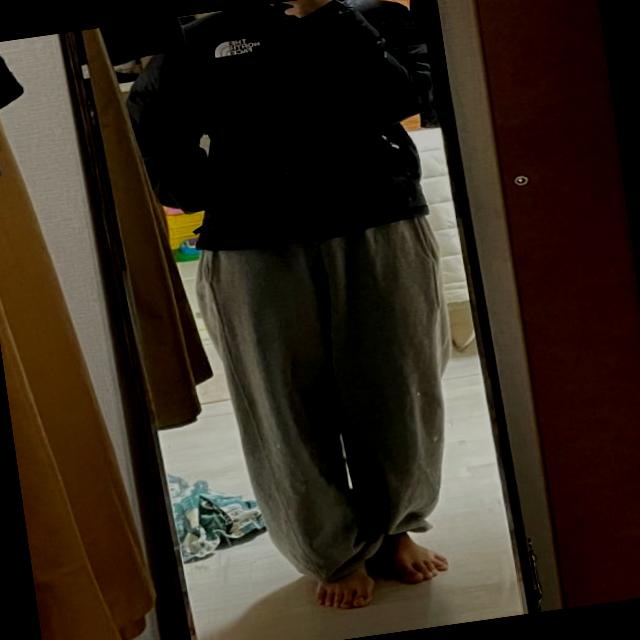padding: (113, 0, 453, 264)
trainingpants: (186, 211, 477, 593)
